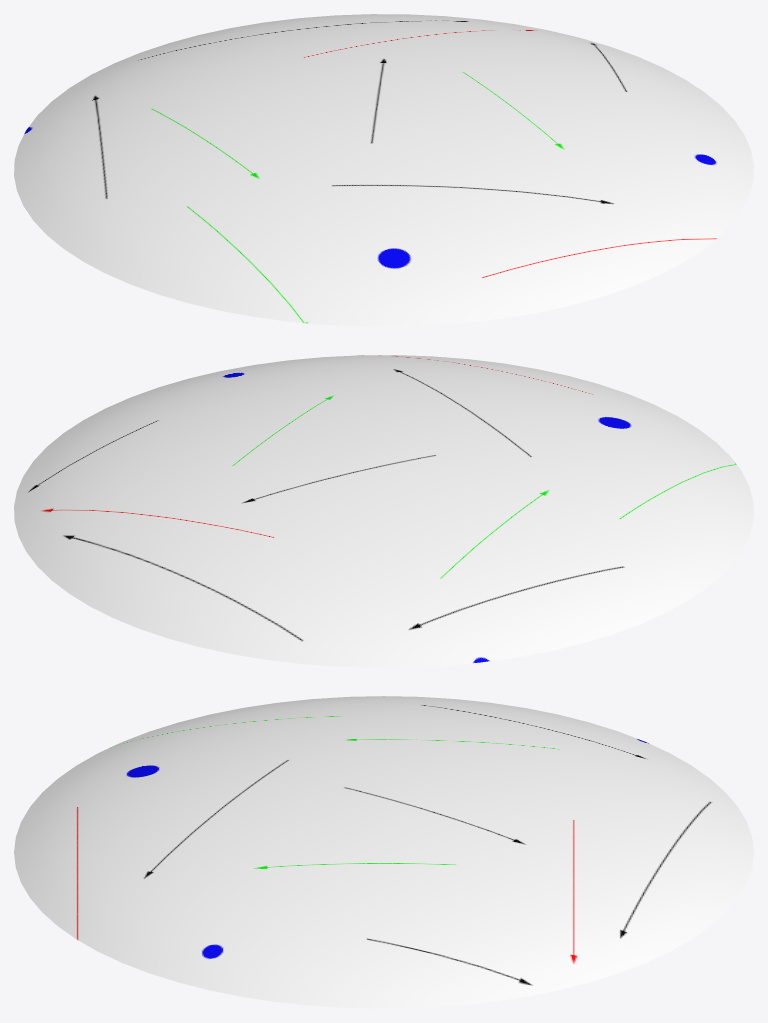
Rendered from cloudSphere.fbx.
3 renders of one model, top to bottom at view 1: azimuth 30°, elevation 25°; view 2: azimuth 150°, elevation 25°; view 3: azimuth 270°, elevation 25°, orthographic.
Visible parts, largest first — view 1: pSphere1; view 2: pSphere1; view 3: pSphere1.
Boxes of the visible parts, box(x1,y1,x2,y2) form: pSphere1: box(14, 14, 753, 326); pSphere1: box(14, 355, 753, 667); pSphere1: box(14, 696, 753, 1008).
Bounding box in the file's own units: 7.06 × 0.5286 × 7.06.
1 material, 1 textured.
